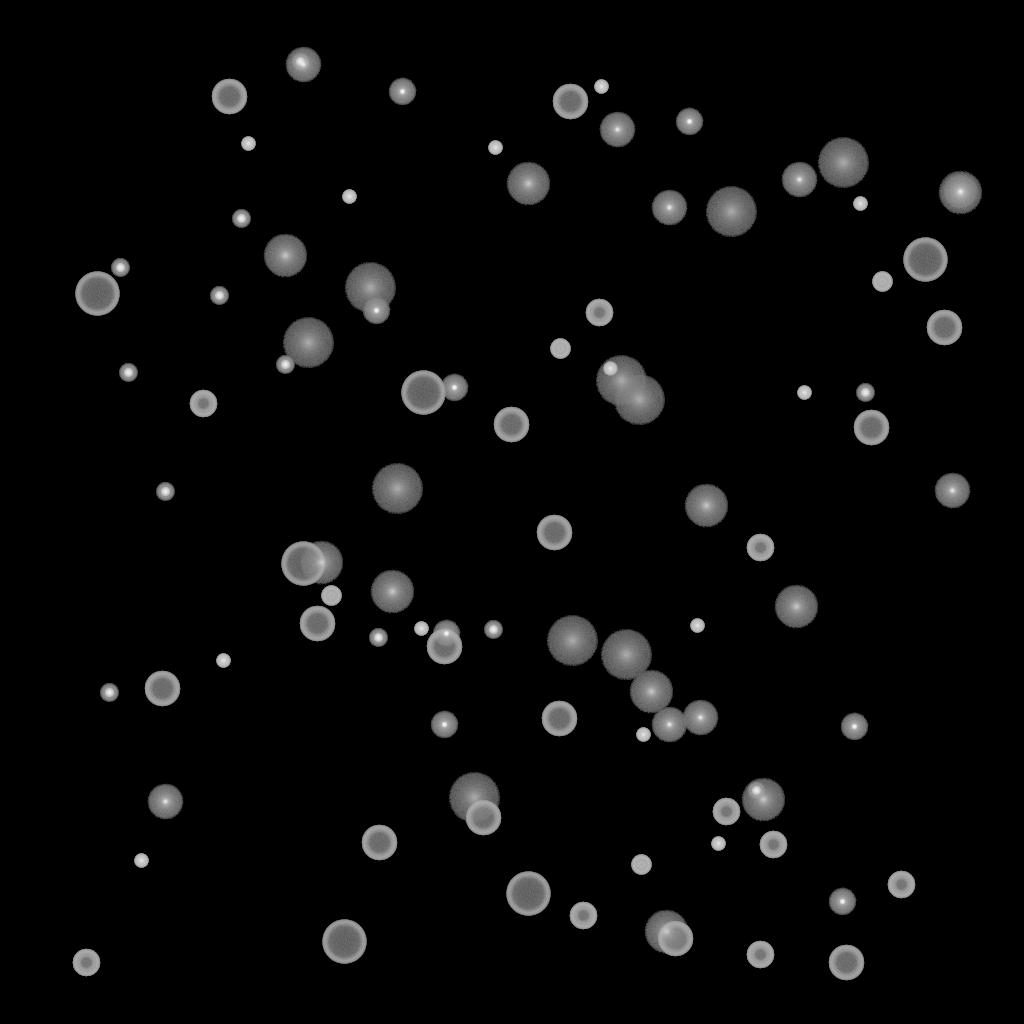depth:-10: (430, 711, 458, 739), (362, 297, 390, 325), (440, 374, 468, 402), (840, 713, 868, 741), (828, 888, 856, 916), (675, 108, 703, 136), (432, 620, 460, 648), (388, 78, 416, 106)
depth:-20: (747, 782, 765, 800), (119, 364, 137, 382), (856, 384, 874, 402), (100, 684, 118, 702), (232, 210, 250, 228), (291, 53, 309, 71), (484, 621, 502, 639), (276, 356, 294, 374), (156, 483, 174, 501), (369, 629, 387, 647), (210, 287, 228, 305), (111, 259, 129, 277)
depth:-30: (711, 837, 725, 851), (603, 362, 617, 376), (414, 622, 428, 636), (853, 197, 867, 211), (488, 141, 502, 155), (797, 386, 811, 400), (690, 619, 704, 633), (342, 190, 356, 204), (216, 654, 230, 668), (241, 137, 255, 151), (594, 80, 608, 94), (134, 854, 148, 868), (636, 728, 650, 742)
depth:-40: (631, 855, 651, 875), (550, 339, 570, 359), (321, 586, 341, 606), (872, 272, 892, 292)
depth:-50: (746, 534, 774, 562), (585, 299, 613, 327), (569, 902, 597, 930), (189, 390, 217, 418), (746, 941, 774, 969), (72, 949, 100, 977), (887, 871, 915, 899), (712, 798, 740, 826), (759, 831, 787, 859)
depth:-60: (853, 410, 889, 446), (299, 606, 335, 642), (426, 629, 462, 665), (541, 701, 577, 737), (144, 671, 180, 707), (211, 79, 247, 115), (361, 825, 397, 861), (552, 84, 588, 120), (828, 945, 864, 981), (493, 407, 529, 443), (536, 515, 572, 551), (926, 310, 962, 346), (465, 800, 501, 836), (657, 921, 693, 957)
depth:-70: (401, 371, 445, 415), (322, 920, 366, 964), (75, 272, 119, 316), (281, 542, 325, 586), (903, 238, 947, 282), (506, 872, 550, 916)
depth:0: (599, 112, 635, 148), (147, 784, 183, 820), (651, 190, 687, 226), (682, 700, 718, 736), (934, 473, 970, 509), (651, 707, 687, 743), (781, 162, 817, 198), (285, 47, 321, 83), (942, 174, 978, 210)
depth:10: (263, 234, 307, 278), (741, 778, 785, 822), (774, 585, 818, 629), (299, 541, 343, 585), (370, 570, 414, 614), (684, 484, 728, 528), (938, 171, 982, 215), (506, 162, 550, 206), (644, 910, 688, 954), (629, 670, 673, 714)
depth:20: (705, 187, 757, 237), (613, 375, 665, 425), (282, 318, 334, 368), (817, 138, 869, 188), (371, 464, 423, 514), (600, 630, 652, 680), (448, 773, 500, 823), (595, 356, 647, 406), (546, 616, 598, 666), (344, 263, 396, 313)
